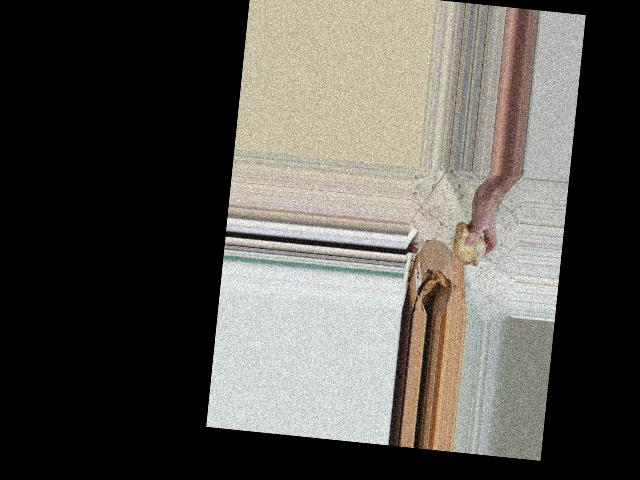onion: (448, 218, 493, 269)
